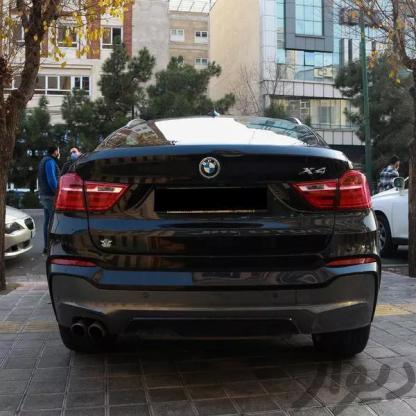Car: (48, 102, 382, 376), (357, 168, 416, 276), (0, 193, 46, 267)
